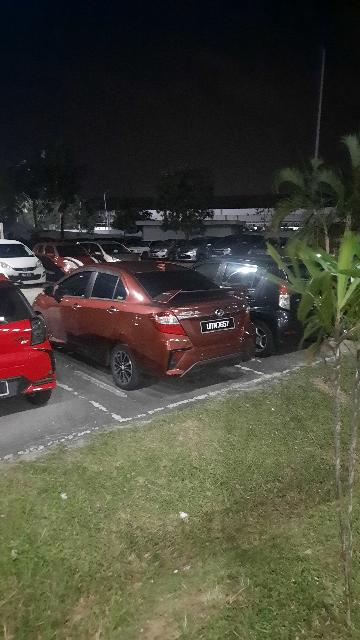License_Plate: (200, 315, 239, 336)
car: (29, 258, 247, 379)
